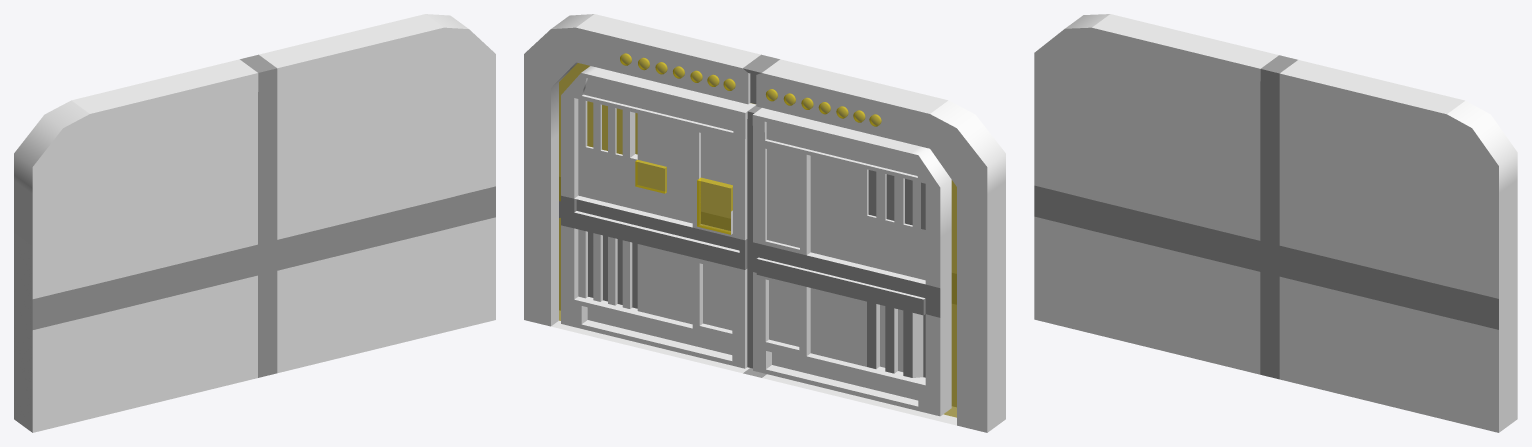
Rendered from door.fbx.
3 views of the same model, side by side, from view 1: azimuth 30°, elevation 25°; view 2: azimuth 150°, elevation 25°; view 3: azimuth 330°, elevation 25° (orthographic).
Parts seen in each view (by area): view 1: Cube; view 2: Cube, Cylinder, Cylinder.001; view 3: Cube.
Part boxes in pixels (box(x1,y1,x2,y2)): Cube: box(14, 14, 495, 432); Cube: box(524, 14, 1005, 432); Cylinder: box(620, 53, 735, 90); Cylinder.001: box(766, 89, 881, 126); Cube: box(1034, 14, 1517, 432).
Bounding box in the file's own units: 1250 × 787 × 112.
